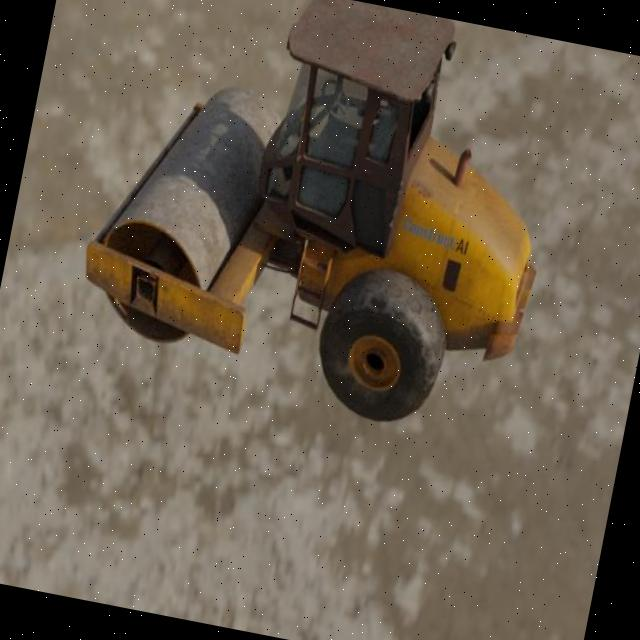Roller: (63, 0, 581, 446)
